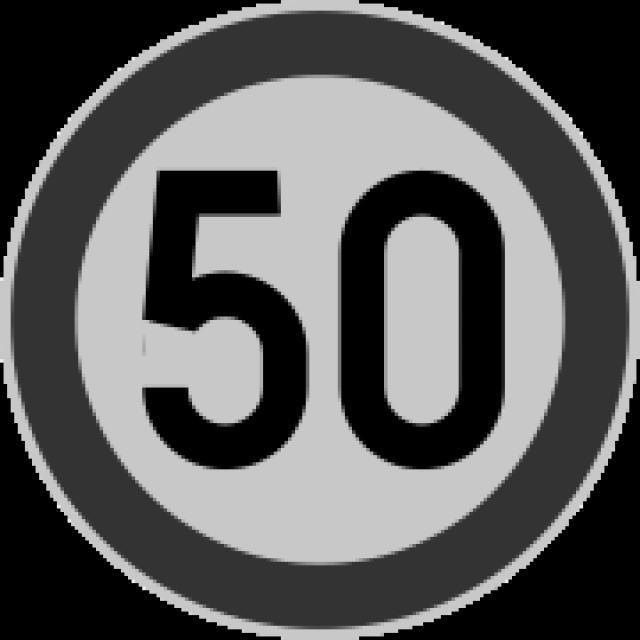speed limit 50: (15, 18, 624, 627)
